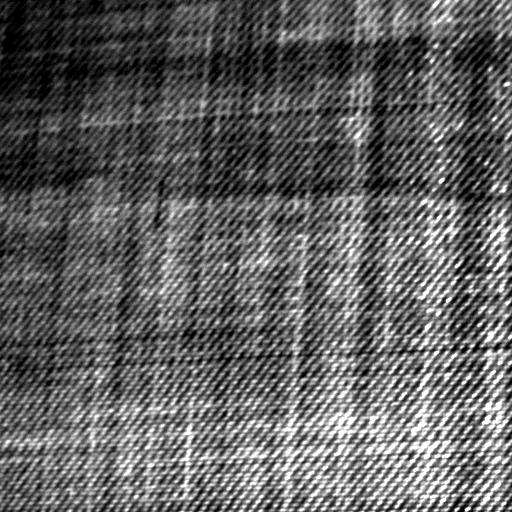fabric_perfect: (2, 2, 512, 510)
